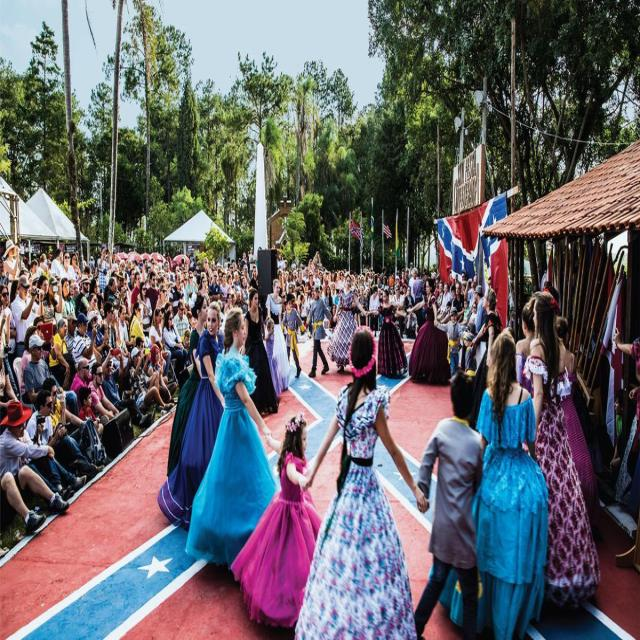body: (291, 322, 430, 639), (520, 289, 602, 614), (186, 307, 280, 575), (471, 327, 549, 640), (407, 368, 488, 639), (229, 410, 324, 632), (0, 236, 258, 305), (156, 299, 225, 533), (555, 315, 601, 532), (367, 264, 471, 350), (274, 253, 368, 339), (1, 400, 73, 511), (168, 293, 210, 478), (0, 399, 71, 502), (25, 388, 88, 493), (41, 376, 106, 474), (611, 327, 640, 524), (240, 285, 281, 417), (405, 276, 452, 385), (23, 332, 80, 418), (100, 345, 153, 432), (326, 271, 368, 375), (365, 287, 409, 380), (301, 282, 337, 378), (127, 345, 175, 416), (12, 273, 46, 358), (514, 293, 540, 404), (100, 300, 131, 392), (470, 287, 503, 373), (266, 278, 290, 392), (280, 292, 307, 379), (48, 316, 78, 392), (161, 307, 189, 388), (72, 313, 103, 383), (433, 306, 463, 378), (145, 342, 176, 411), (0, 294, 19, 404), (0, 332, 20, 435), (87, 359, 120, 421), (19, 325, 43, 408), (0, 282, 18, 390), (148, 306, 172, 379), (608, 388, 625, 490), (153, 341, 178, 408), (32, 316, 58, 376), (77, 385, 104, 438), (137, 269, 161, 328), (172, 298, 192, 366), (69, 356, 92, 414), (36, 274, 63, 320), (3, 238, 20, 308), (86, 310, 109, 357), (128, 299, 149, 350), (117, 304, 136, 358), (74, 273, 95, 320), (136, 280, 153, 338), (391, 282, 407, 340), (263, 314, 275, 390), (473, 284, 489, 338), (168, 272, 186, 318), (96, 244, 112, 295), (85, 277, 104, 318), (64, 309, 78, 364), (542, 278, 564, 313), (130, 269, 146, 316), (463, 331, 478, 381), (60, 276, 76, 318), (86, 292, 104, 329), (368, 284, 381, 333), (452, 280, 465, 325), (58, 250, 76, 282), (412, 269, 425, 311), (154, 284, 168, 316), (69, 280, 80, 320), (185, 270, 197, 304), (403, 285, 416, 316), (408, 268, 418, 306), (69, 251, 80, 280), (0, 538, 10, 560)
